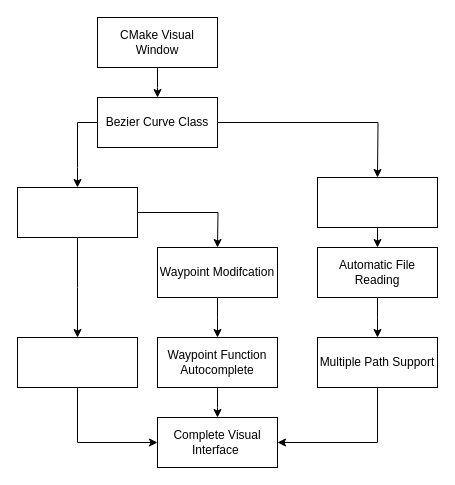
The diagram is 455 pixels wide and 485 high, and some of its shapes have lost their labels. The centre of each missing label's shape, as x and y in pixels:
"Curve Modification Tools" belongs at point (77, 212).
"Explicit Curve Modification" belongs at point (77, 362).
"File Writing" belongs at point (377, 202).
